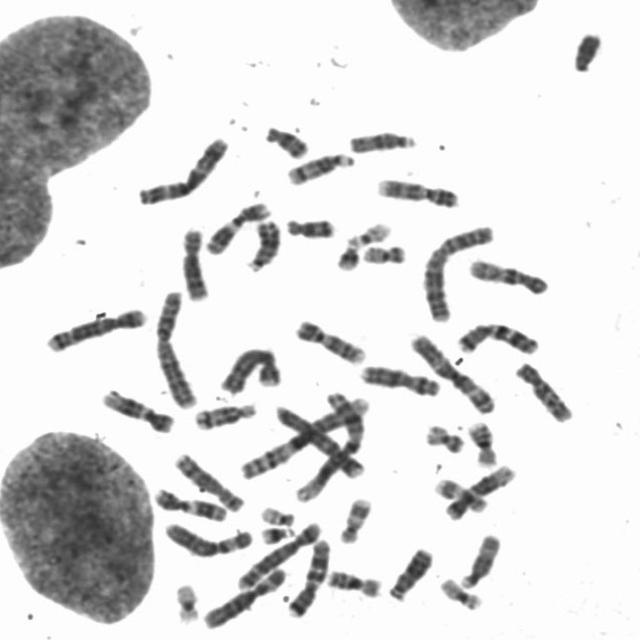A1: (235, 389, 373, 481), (288, 387, 371, 505)
A2: (419, 218, 499, 324), (148, 286, 201, 410)
A3: (403, 329, 498, 416), (133, 131, 232, 206)
B4: (272, 399, 368, 480), (216, 342, 284, 395)
B5: (232, 517, 325, 590), (42, 303, 150, 353)
C10: (510, 356, 576, 424), (464, 253, 552, 297)
C11: (201, 196, 273, 256), (150, 482, 229, 522)
C12: (440, 459, 519, 522), (97, 384, 178, 435)
C6: (198, 561, 291, 630), (162, 517, 256, 559)
C7: (283, 534, 334, 620), (452, 317, 542, 356)
C8: (170, 448, 248, 514), (177, 223, 212, 304)
C9: (290, 314, 368, 366), (372, 172, 462, 210)
D13: (385, 542, 436, 602), (242, 215, 283, 273)
D14: (282, 148, 357, 186), (189, 397, 259, 431)
D15: (455, 529, 504, 590), (344, 126, 420, 154)
E16: (323, 564, 385, 599), (463, 417, 501, 468)
E17: (429, 474, 490, 514), (335, 493, 374, 545)
E18: (259, 120, 312, 160), (281, 212, 337, 240)
F19: (435, 573, 486, 612), (169, 578, 203, 626)
F20: (420, 418, 466, 454), (358, 238, 409, 266)
G21: (332, 236, 364, 272), (255, 521, 297, 545)
G22: (343, 217, 394, 247), (255, 501, 298, 527)
X: (356, 359, 446, 398)
Y: (567, 26, 605, 73)
